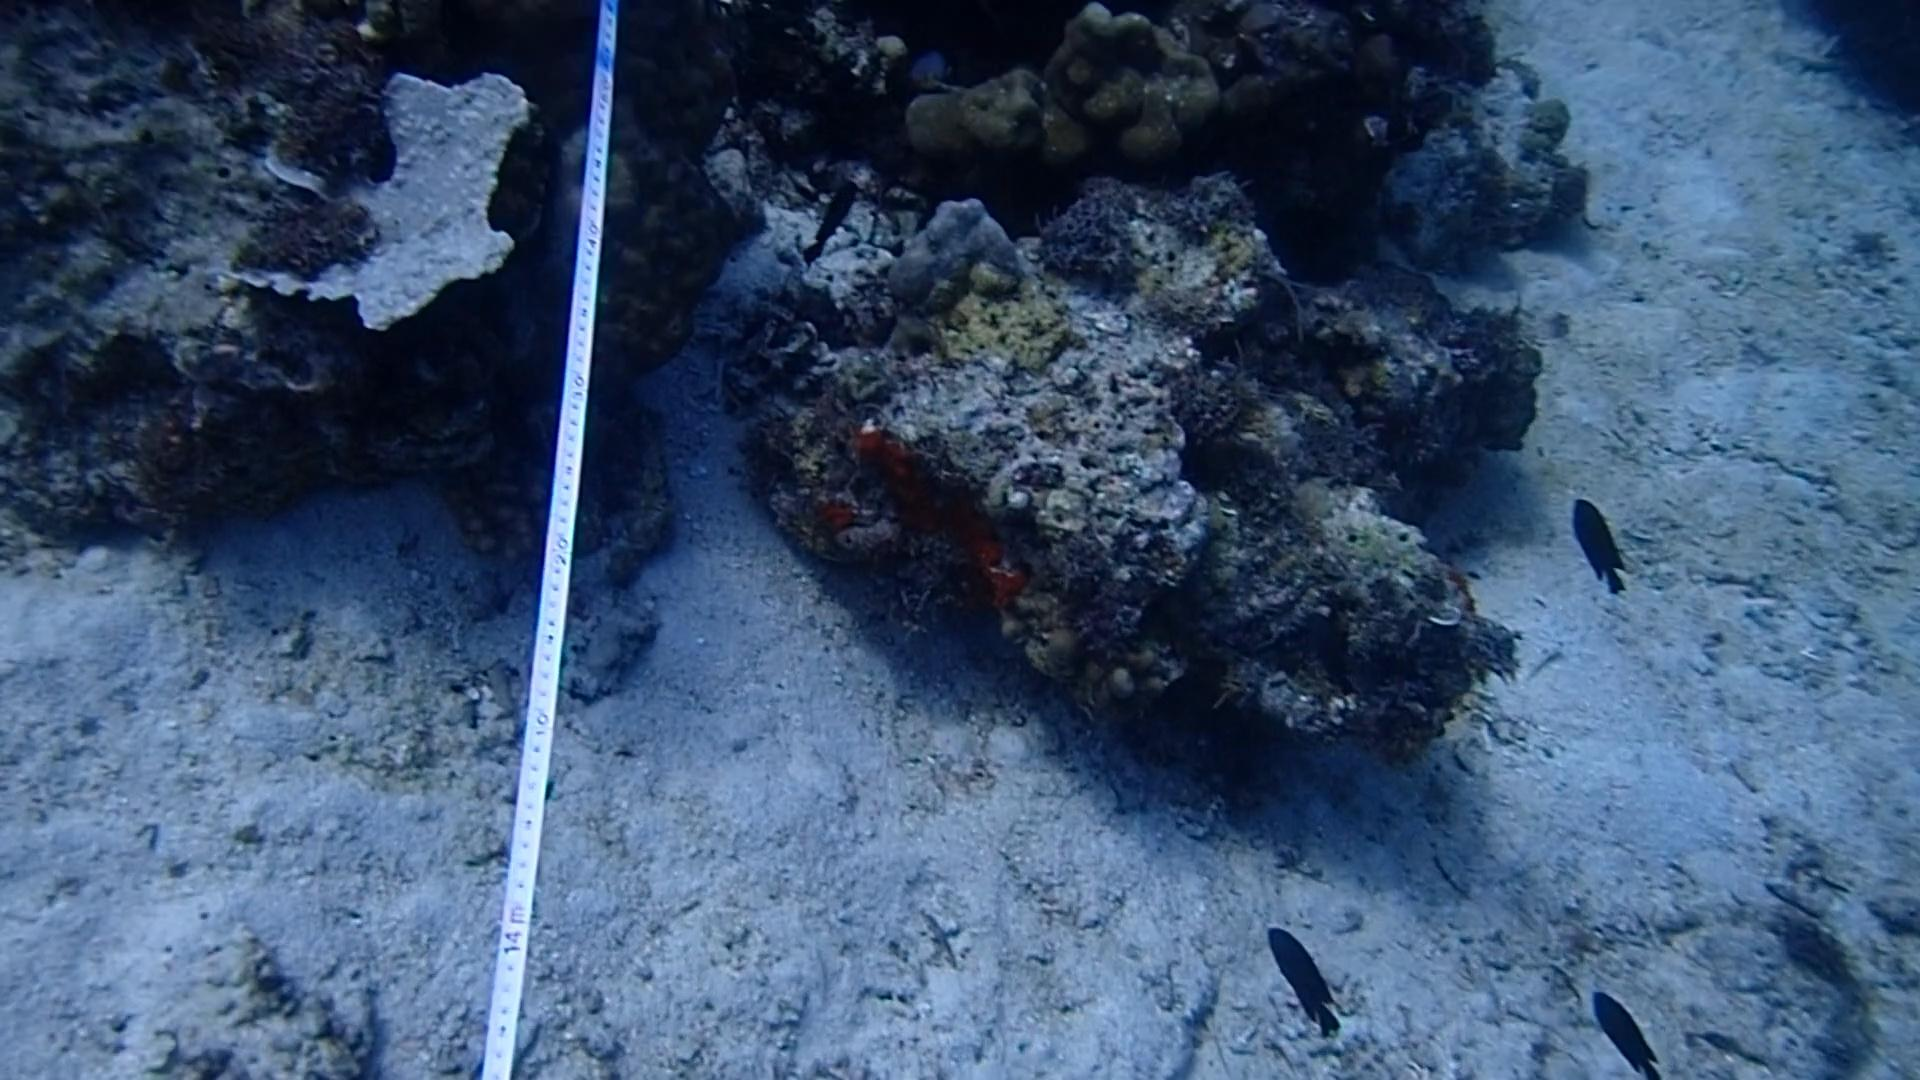Dark Fish: (1254, 919, 1356, 1056), (1559, 483, 1642, 612), (1581, 977, 1664, 1080), (790, 166, 860, 264)
